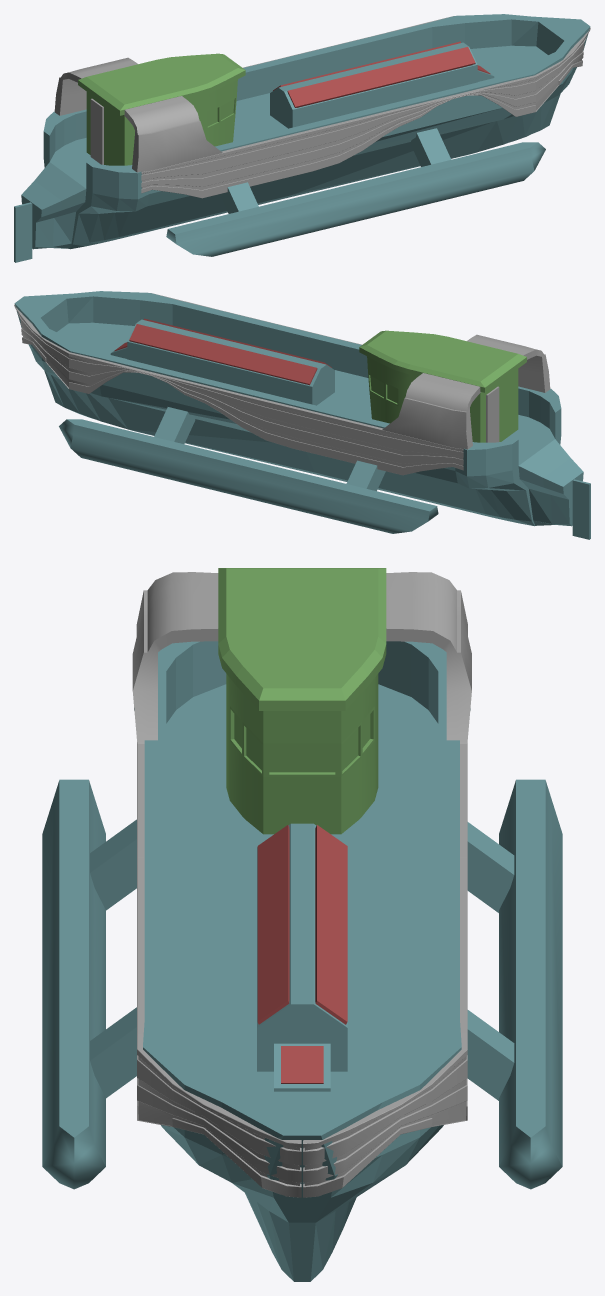
File: Boat_v1.fbx
3 renders of one model, top to bottom at view 1: azimuth 30°, elevation 25°; view 2: azimuth 150°, elevation 25°; view 3: azimuth 270°, elevation 25°, orthographic. The views are drawn at different scales.
Parts seen in each view (by area): view 1: pCube21, pCube54, pCube33, pCube25, pCube61, pCube53, pCube62, pCube32, pCube60, pCube34, pCube23; view 2: pCube21, pCube53, pCube27, pCube25, pCube23, pCube54, pCube62, pCube28, pCube26, pCube60, pCube61; view 3: pCube21, pCube25, pCube27, pCube33, pCube53, pCube54, pCube23, pCube61, pCube28, pCube26, pCube32, pCube34 (+1 smaller).
Part boxes in pixels (bbox=[...]): pCube21: bbox=[21, 14, 590, 249]; pCube54: bbox=[124, 27, 590, 198]; pCube33: bbox=[166, 142, 545, 256]; pCube25: bbox=[78, 53, 245, 165]; pCube61: bbox=[287, 47, 475, 107]; pCube53: bbox=[54, 16, 453, 115]; pCube62: bbox=[14, 202, 32, 262]; pCube32: bbox=[410, 128, 451, 166]; pCube60: bbox=[90, 98, 103, 164]; pCube34: bbox=[219, 182, 258, 213]; pCube23: bbox=[273, 41, 460, 90]; pCube21: bbox=[14, 291, 583, 526]; pCube53: bbox=[14, 304, 480, 475]; pCube27: bbox=[59, 419, 438, 533]; pCube25: bbox=[359, 330, 526, 442]; pCube23: bbox=[129, 324, 317, 385]; pCube54: bbox=[151, 293, 550, 392]; pCube62: bbox=[572, 479, 590, 539]; pCube28: bbox=[154, 407, 195, 443]; pCube26: bbox=[346, 460, 385, 491]; pCube60: bbox=[486, 386, 499, 442]; pCube61: bbox=[144, 318, 331, 367]; pCube21: bbox=[134, 641, 470, 1281]; pCube25: bbox=[218, 568, 386, 834]; pCube27: bbox=[499, 779, 562, 1189]; pCube33: bbox=[42, 779, 105, 1189]; pCube53: bbox=[303, 572, 471, 1197]; pCube54: bbox=[132, 572, 301, 1197]; pCube23: bbox=[315, 825, 347, 1024]; pCube61: bbox=[257, 825, 289, 1024]; pCube28: bbox=[467, 1010, 514, 1100]; pCube26: bbox=[467, 822, 514, 912]; pCube32: bbox=[90, 1007, 136, 1098]; pCube34: bbox=[90, 819, 136, 910].
Bounding box in the file's own units: 2844 × 708 × 1117.
